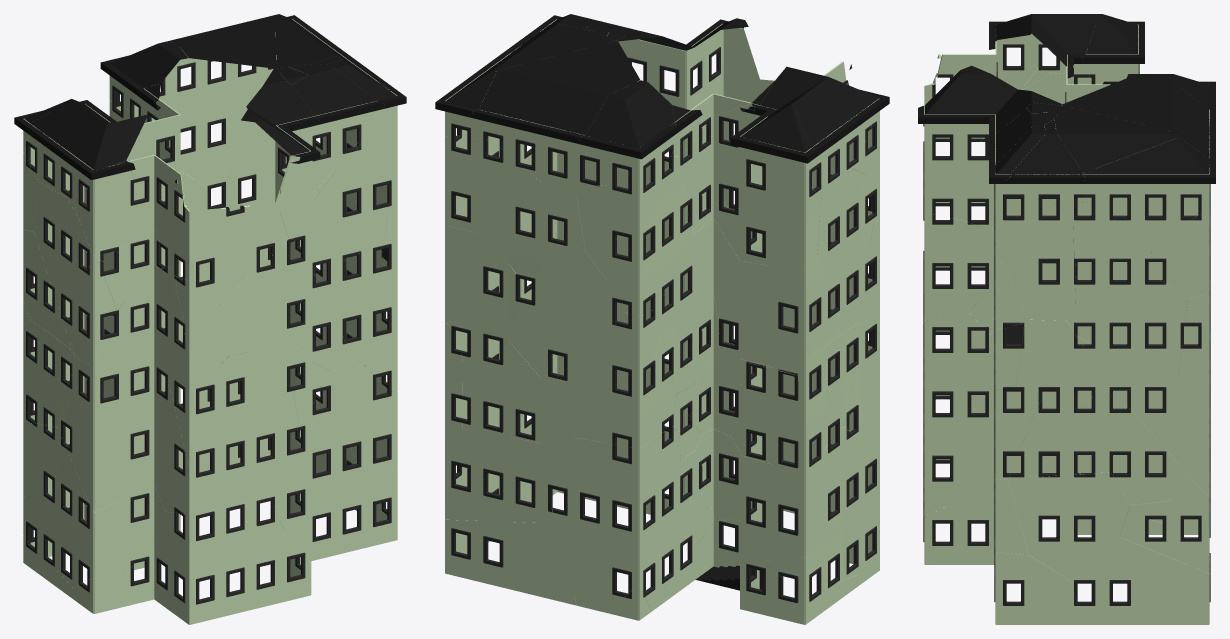
File: big_house_02_d.fbx
The picture shows the model from 3 angles, left to right: view 1: azimuth 30°, elevation 25°; view 2: azimuth 150°, elevation 25°; view 3: azimuth 270°, elevation 25°; orthographic projection. The views are drawn at different scales.
Parts seen in each view (by area): view 1: house2_W_cell.026, house2_W_cell.062, house2_W_cell.080, house2_W_cell, house2_W_cell.114, house2_W_cell.390, house2_W_cell.060, house2_W_cell.053, house2_W_cell.074, house2_W_cell.011, house2_W_cell.217, house2_W_cell.239 (+47 smaller); view 2: house2_W_cell.023, house2_W_cell.011, house2_W_cell.025, house2_W_cell.055, house2_W_cell.037, house2_W_cell.020, house2_W_cell.148, house2_W_cell.065, house2_W_cell.390, house2_W_cell.034, house2_W_cell.056, house2_W_cell.058 (+45 smaller); view 3: house2_W_cell.085, house2_W_cell.402, house2_W_cell.009, house2_W_cell.043, house2_W_cell.011, house2_W_cell.427, house2_W_cell.086, house2_W_cell.018, house2_W_cell.046, house2_W_cell.336, house2_W_cell.008, house2_W_cell.273 (+36 smaller).
Part boxes in pixels (bbox=[...]): house2_W_cell.026: bbox=[64, 357, 154, 512]; house2_W_cell.062: bbox=[189, 508, 303, 624]; house2_W_cell.080: bbox=[172, 203, 288, 309]; house2_W_cell: bbox=[300, 359, 397, 485]; house2_W_cell.114: bbox=[215, 238, 310, 354]; house2_W_cell.390: bbox=[21, 100, 147, 197]; house2_W_cell.060: bbox=[214, 385, 298, 505]; house2_W_cell.053: bbox=[100, 267, 189, 383]; house2_W_cell.074: bbox=[300, 159, 388, 273]; house2_W_cell.011: bbox=[159, 15, 276, 106]; house2_W_cell.217: bbox=[300, 468, 397, 563]; house2_W_cell.239: bbox=[23, 456, 93, 588]; house2_W_cell.023: bbox=[553, 426, 680, 613]; house2_W_cell.011: bbox=[472, 41, 639, 194]; house2_W_cell.025: bbox=[547, 309, 676, 448]; house2_W_cell.055: bbox=[740, 322, 860, 474]; house2_W_cell.037: bbox=[509, 251, 622, 384]; house2_W_cell.020: bbox=[445, 421, 553, 523]; house2_W_cell.148: bbox=[740, 426, 854, 561]; house2_W_cell.065: bbox=[445, 519, 576, 605]; house2_W_cell.390: bbox=[754, 66, 886, 195]; house2_W_cell.034: bbox=[445, 225, 521, 341]; house2_W_cell.056: bbox=[461, 335, 558, 444]; house2_W_cell.058: bbox=[713, 164, 804, 270]; house2_W_cell.085: bbox=[1007, 472, 1129, 581]; house2_W_cell.402: bbox=[1071, 537, 1208, 624]; house2_W_cell.009: bbox=[1067, 276, 1187, 390]; house2_W_cell.043: bbox=[995, 119, 1085, 264]; house2_W_cell.011: bbox=[1062, 78, 1215, 160]; house2_W_cell.427: bbox=[923, 399, 994, 517]; house2_W_cell.086: bbox=[1019, 396, 1111, 476]; house2_W_cell.018: bbox=[1016, 319, 1110, 400]; house2_W_cell.046: bbox=[924, 313, 994, 432]; house2_W_cell.336: bbox=[1131, 376, 1208, 496]; house2_W_cell.008: bbox=[925, 211, 994, 314]; house2_W_cell.273: bbox=[918, 65, 1062, 133].
Size of the model in its own units: 841 by 1197 by 679.
